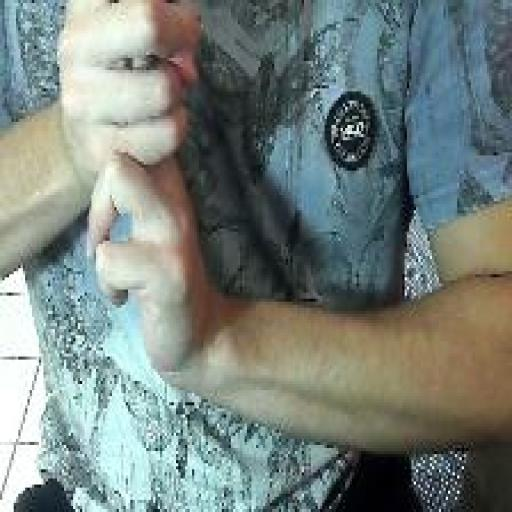Ne -rat-: (54, 0, 218, 390)
